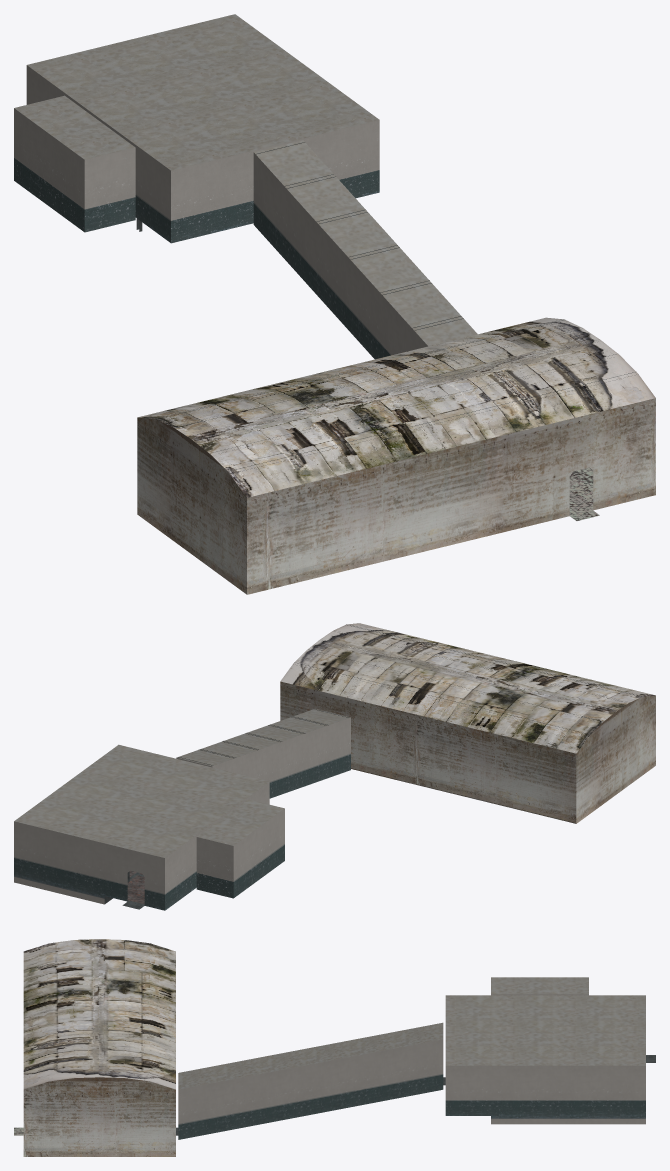
Rendered from TrainingLayout.fbx.
The picture shows the model from 3 angles, top to bottom: view 1: azimuth 30°, elevation 25°; view 2: azimuth 150°, elevation 25°; view 3: azimuth 270°, elevation 25°; orthographic projection. The views are drawn at different scales.
Parts seen in each view (by area): view 1: BunkerWalls, R3_Ceiling, R1_Ceiling, TR_Wall01, R2_Ceiling, TR_Wall03, TR_Wall02, TR_Ground; view 2: BunkerWalls, R3_Ceiling, R1_Ceiling, TR_Wall01, TR_Wall03, TR_Wall02, R2_Ceiling, TR_Ground; view 3: R3_Ceiling, R1_Ceiling, TR_Wall03, BunkerWalls, TR_Wall01, R2_Ceiling.
Part boxes in pixels (x1,y1,x2,y2): BunkerWalls: [137, 398, 655, 594]; R3_Ceiling: [138, 317, 655, 497]; R1_Ceiling: [14, 14, 379, 170]; TR_Wall01: [26, 65, 379, 243]; R2_Ceiling: [254, 140, 477, 346]; TR_Wall03: [253, 142, 463, 359]; TR_Wall02: [14, 108, 135, 232]; TR_Ground: [569, 467, 599, 520]; BunkerWalls: [280, 681, 655, 823]; R3_Ceiling: [280, 623, 655, 753]; R1_Ceiling: [14, 744, 284, 857]; TR_Wall01: [14, 782, 269, 910]; TR_Wall03: [176, 709, 350, 798]; TR_Wall02: [196, 808, 284, 898]; R2_Ceiling: [177, 709, 350, 766]; TR_Ground: [104, 870, 144, 909]; R3_Ceiling: [23, 939, 175, 1089]; R1_Ceiling: [445, 977, 645, 1065]; TR_Wall03: [178, 1039, 443, 1139]; BunkerWalls: [23, 1077, 175, 1156]; TR_Wall01: [445, 1065, 645, 1124]; R2_Ceiling: [178, 1022, 443, 1089].
Bounding box in the file's own units: 23.26 × 7.39 × 42.71.
